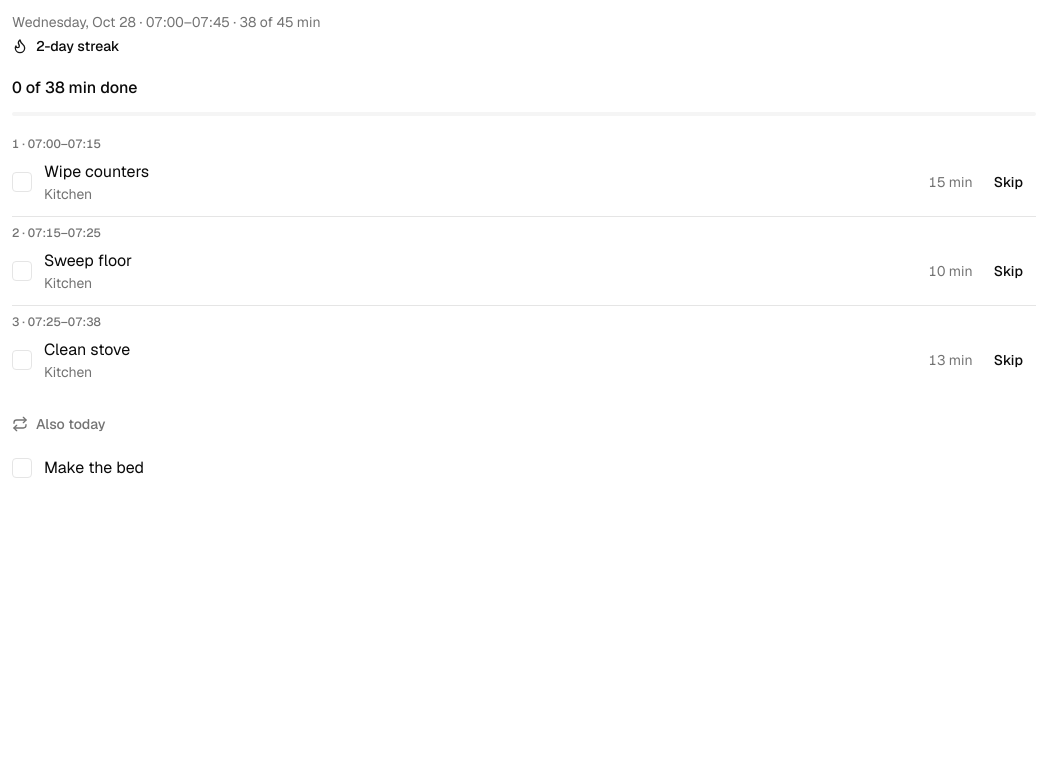
Test: TodaySession › AC5: finishing the last task completes the day and extends the streak
This screenshot has width=1048, height=780.
Click the checkbox named "Wipe counters" next to "Wipe counters" at coordinates (22, 182), box [12,172,32,192]
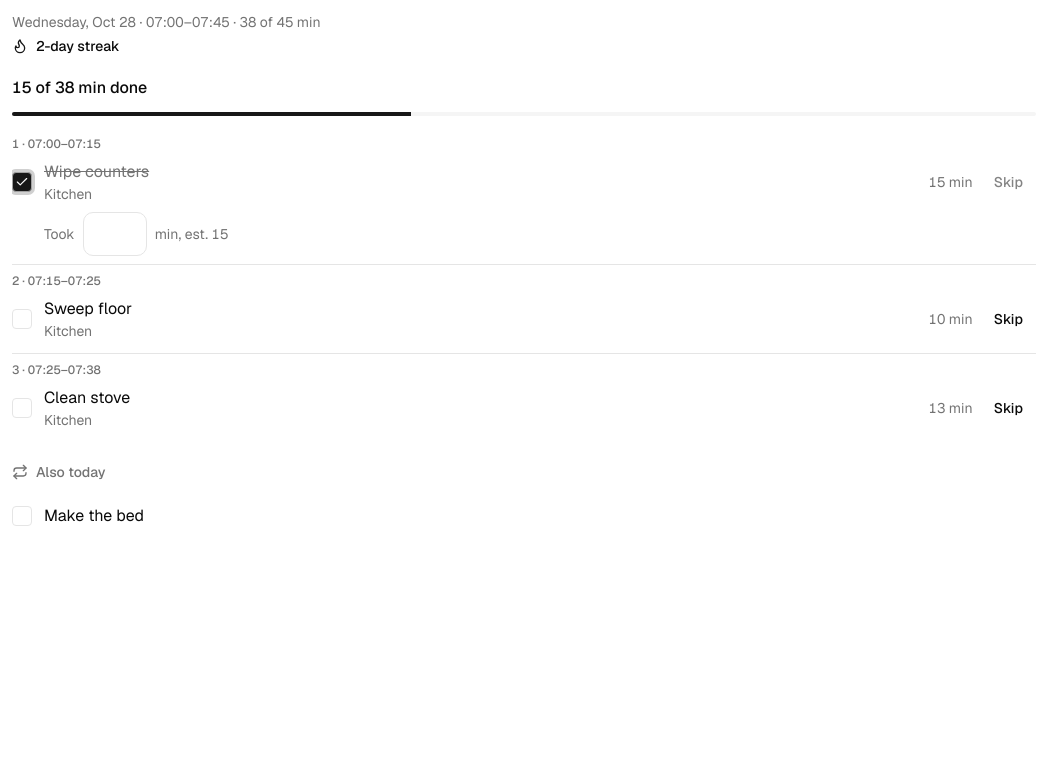
Click the checkbox named "Sweep floor" next to "Sweep floor" at coordinates (22, 319), box [12,309,32,329]
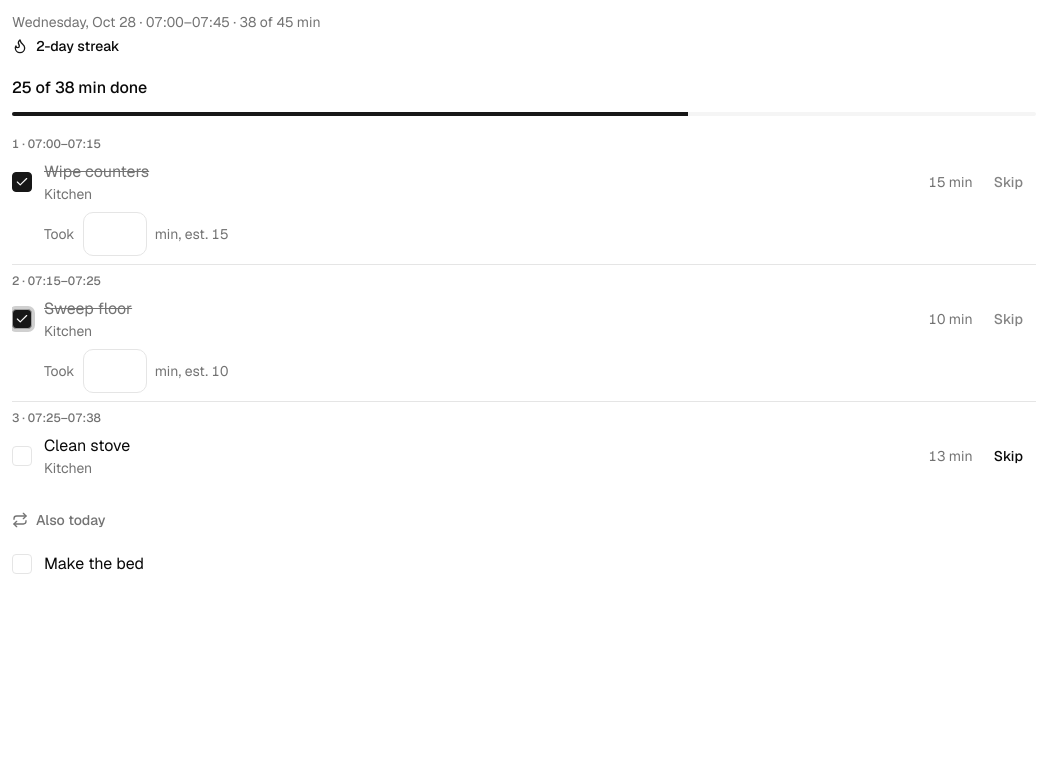
Click the button with aria-label "Skip Clean stove" at coordinates (1008, 456), box [981,434,1036,478]
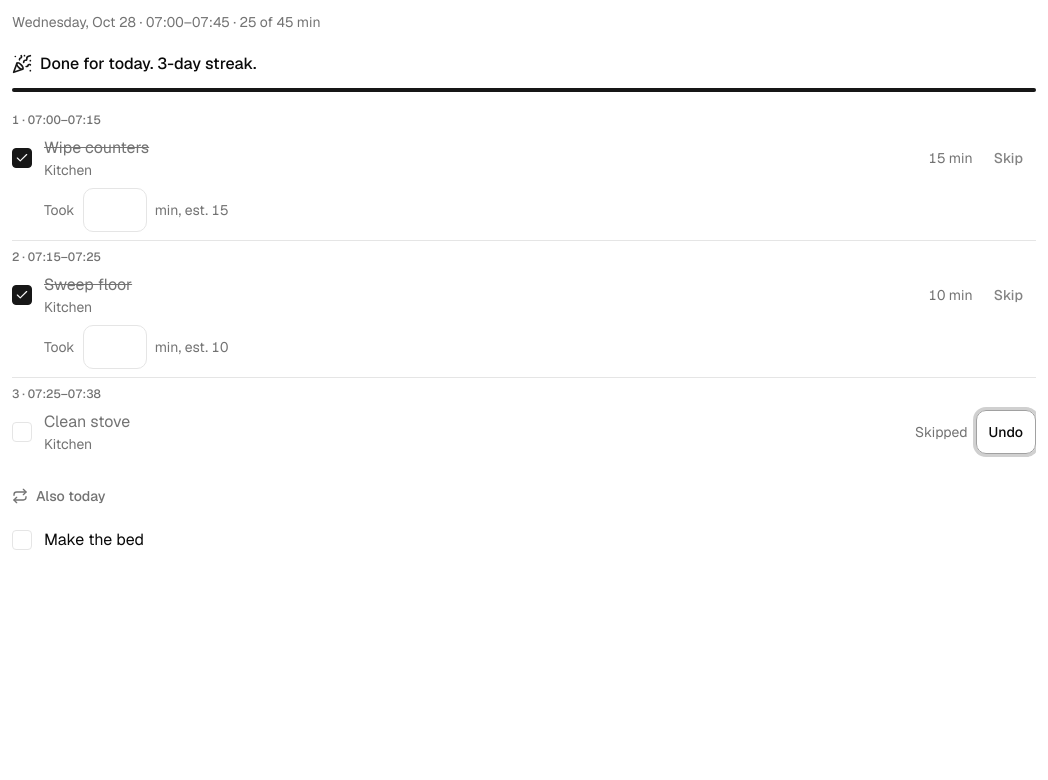
Check: the text "Done for today. 3-day streak." is shown, box [12,53,256,74]
